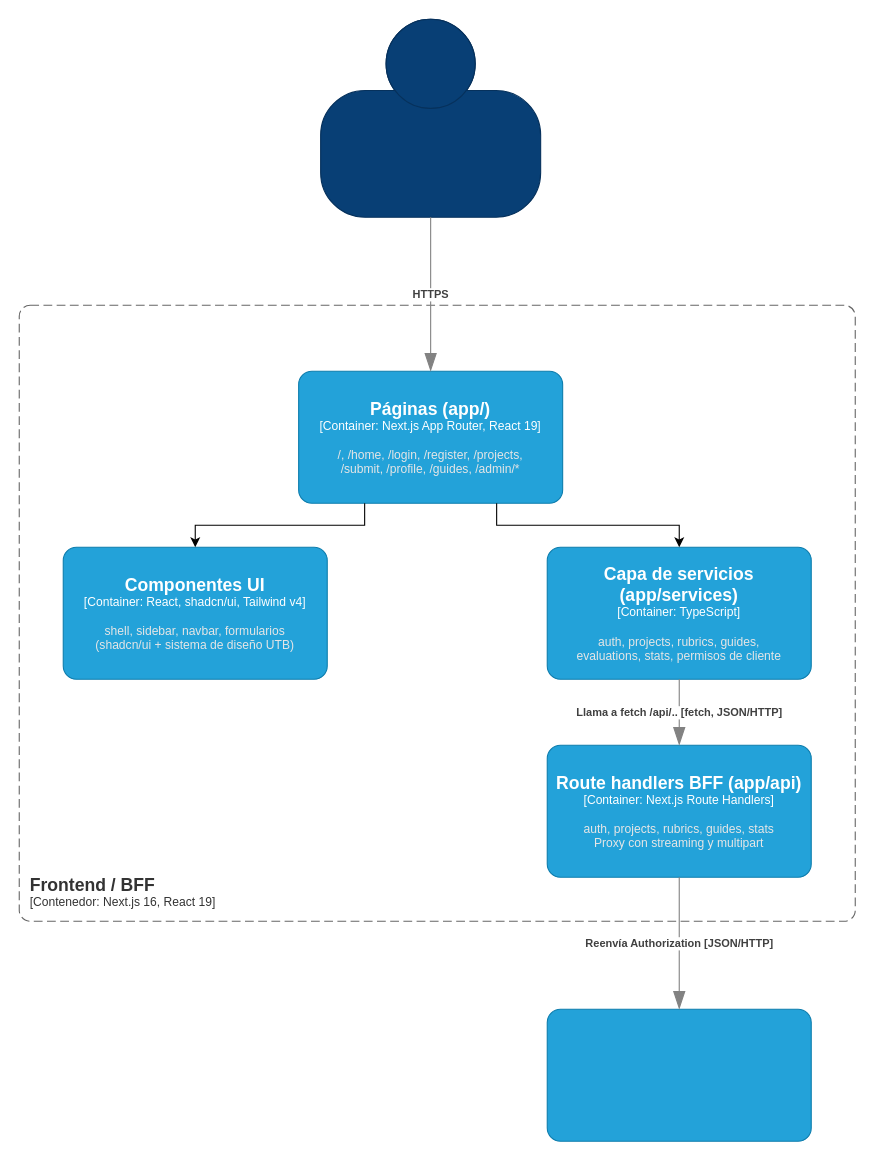
Image size: 875x1161. Some labels were removed from this diagram. The shapes that lost their labels are listed below. From the top down, each one's centre as x and y in pixels, then its label:
point (430, 117): Navegador del usuario [Person] Usa la aplicacion wed
point (678, 1074): API REST [Container: NestJS 11] Regla de negocio, auth y autorizacion
